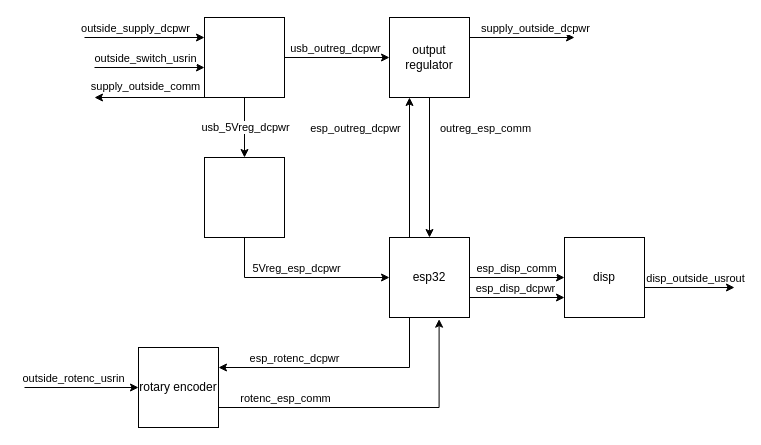
Image size: 761x445. Some labels were removed from this diagram. Each missing label, with the box of its shape:
5v converter: (204, 156, 284, 238)
usb power: (204, 16, 284, 98)
